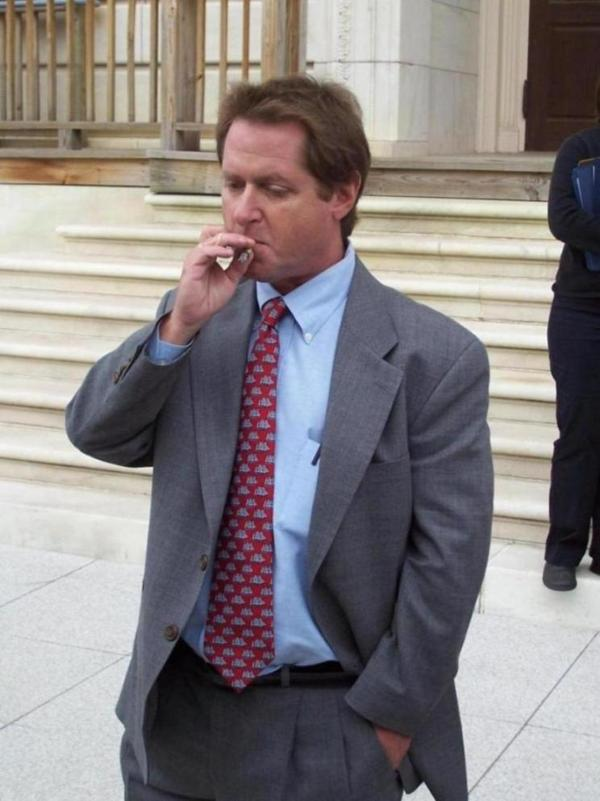person: (66, 77, 494, 801)
